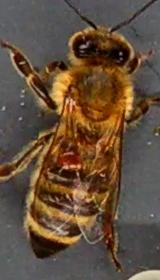varroa_mite: (53, 145, 86, 174)
